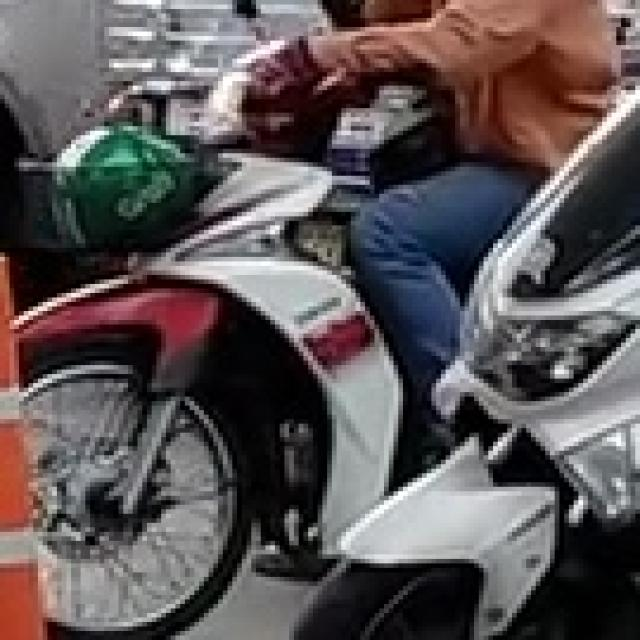door: (0, 248, 52, 635)
helmet: (47, 117, 204, 248)
tyre: (14, 356, 251, 636)
